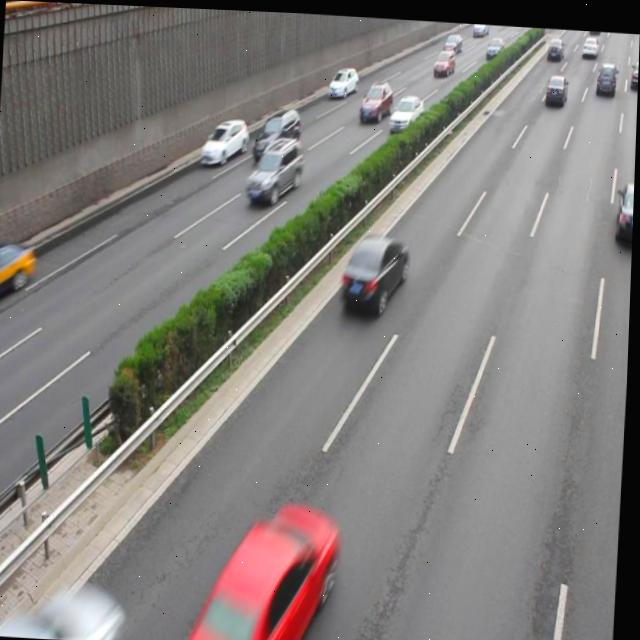car: (201, 498, 341, 640), (22, 580, 128, 640), (340, 227, 409, 316), (244, 131, 304, 204), (252, 100, 302, 162), (200, 113, 250, 166), (388, 88, 423, 133), (614, 172, 636, 242), (357, 76, 392, 119), (327, 62, 358, 98)
